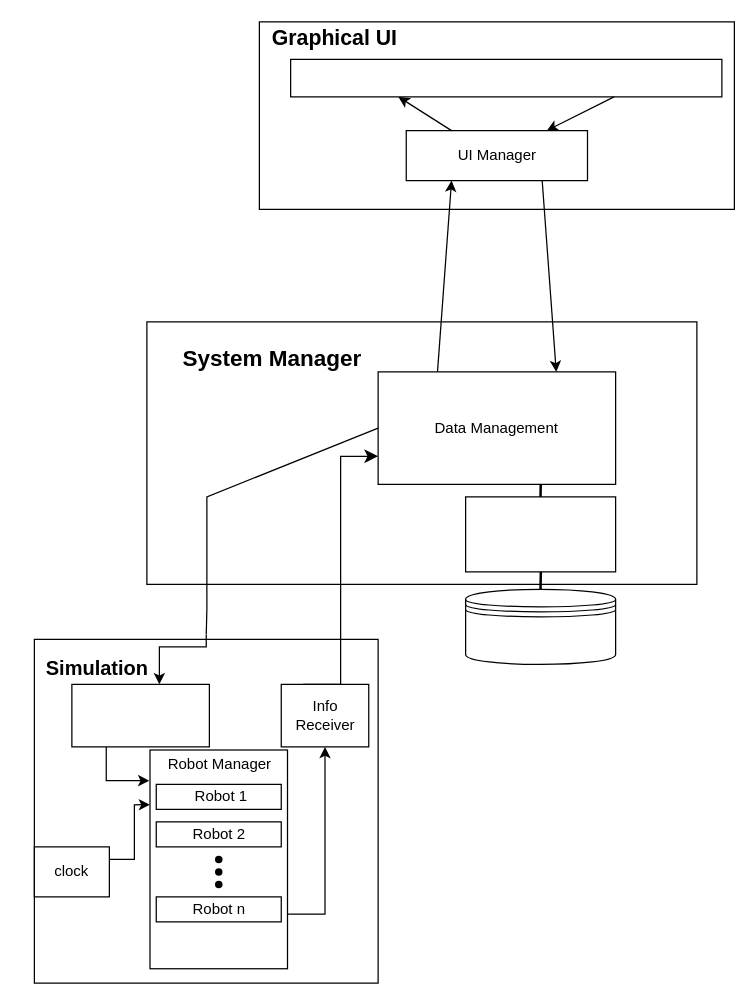
This 756x1005 diagram has some shape labels left out. The shapes that lost their labels are listed below. From the top down, each one's centre as x and y in pixels, then its label:
At (x=505, y=77): "Screen".
At (x=540, y=534): "DB Driver".
At (x=540, y=626): "Database".
At (x=140, y=715): "Data Reciever".
